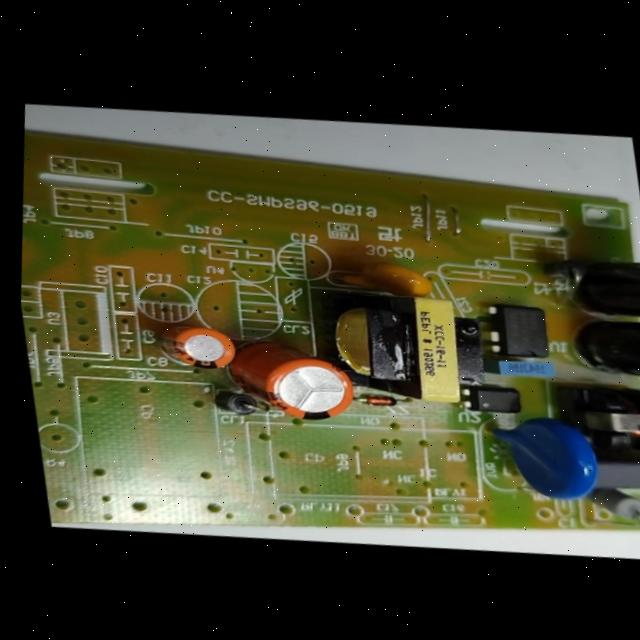Cap1: (220, 331, 371, 435)
Cap2: (138, 314, 244, 379)
Cap3: (556, 308, 640, 390)
Cap4: (557, 247, 640, 327)
MOSFET: (474, 297, 561, 364)
Mov: (471, 404, 614, 512)
Resistor: (588, 482, 640, 528)
Transformer: (289, 268, 482, 416), (557, 377, 640, 462)
